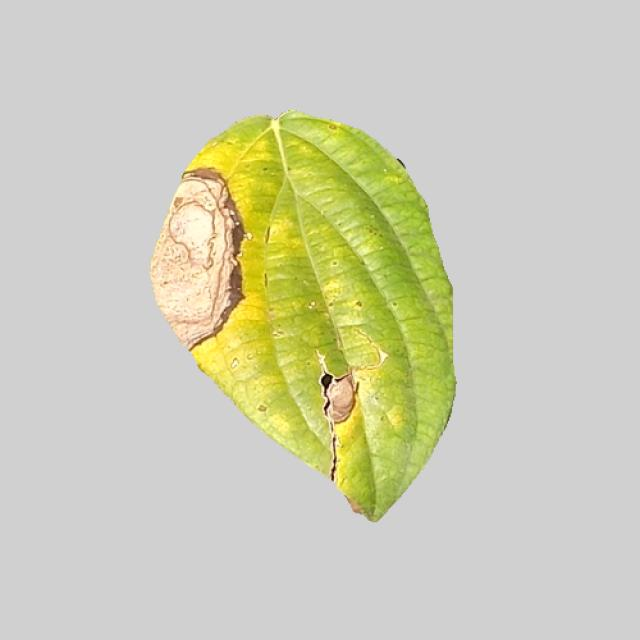leaf-blight: (137, 115, 459, 520)
